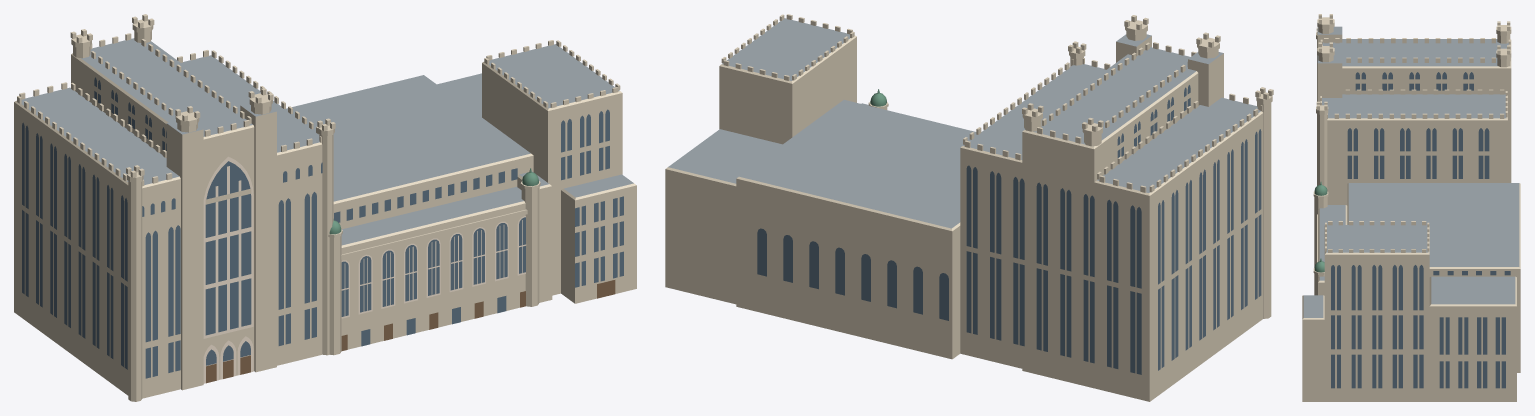
File: det-masonic-temple.glb
The picture shows the model from 3 angles, left to right: view 1: azimuth 30°, elevation 25°; view 2: azimuth 150°, elevation 25°; view 3: azimuth 270°, elevation 25°; orthographic projection. The views are drawn at different scales.
Parts seen in each view (by area): view 1: Detroit Masonic Temple; view 2: Detroit Masonic Temple; view 3: Detroit Masonic Temple.
Boxes of the visible parts, x1=… form: Detroit Masonic Temple: x1=14, y1=14, x2=636, y2=401; Detroit Masonic Temple: x1=665, y1=14, x2=1273, y2=401; Detroit Masonic Temple: x1=1302, y1=14, x2=1520, y2=401.
Size of the model in its own units: 121 by 63.8 by 58.41.
